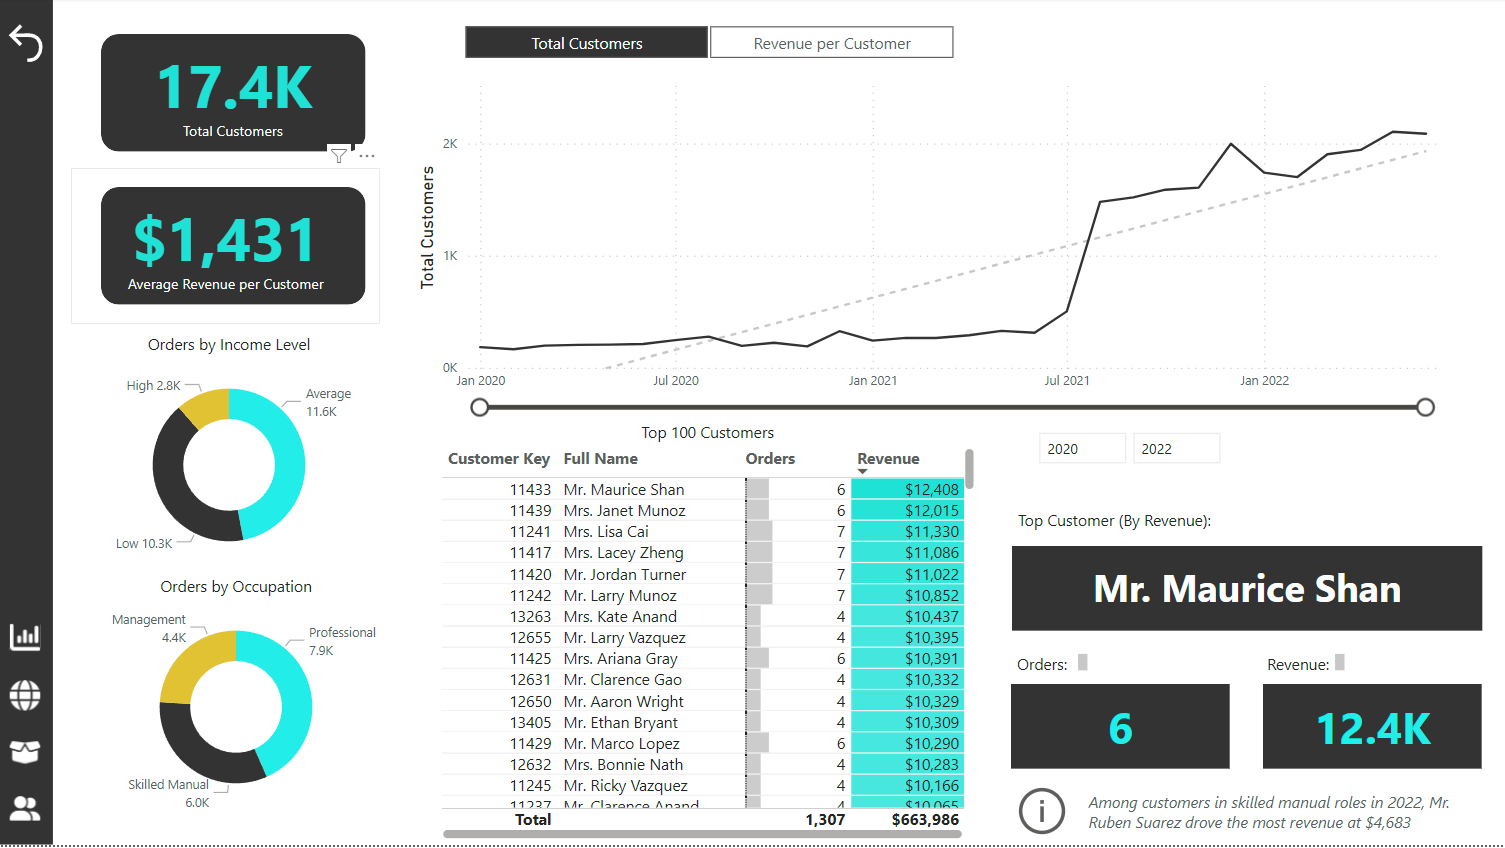

The page's visual inventory and layout, read from the dashboard file:
{"tool":"powerbi","page":{"name":"Customer Detail","canvas":[1280,720],"ordinal":3},"visuals":[{"type":"shape","box":[0,0,45,720],"z":0},{"type":"actionButton","box":[4.6,524.8,34,37.7],"z":1000,"group":"g1"},{"type":"shape","box":[86,31,225,100],"z":1000},{"type":"actionButton","box":[4.6,574.4,34,37.7],"z":2000,"group":"g1"},{"type":"shape","box":[86,161,225,100],"z":2000},{"type":"card","fields":{"Values":["Measure Table.Total Customers"]},"box":[66.1,14.6,263.4,131.2],"z":3000},{"type":"actionButton","box":[4.6,622.2,34,37.7],"z":3000,"group":"g1"},{"type":"card","fields":{"Values":["Measure Table.Average Revenue per Customer"]},"box":[60,145,263,132],"z":4000},{"type":"actionButton","box":[4.6,670,34,37.7],"z":4000,"group":"g1"},{"type":"lineChart","title":"Monthly Customers","fields":{"Y":["Measure Table.Total Customers"],"Category":["Calendar Lookup.Date Hierarchy.Start of Year","Calendar Lookup.Date Hierarchy.Start of Month","Calendar Lookup.Date Hierarchy.Start of Week","Calendar Lookup.Date Hierarchy.Date"]},"box":[350.1,62.1,888.5,297.4],"z":5000},{"type":"donutChart","title":"Orders by Income Level","fields":{"Category":["Customer Lookup.Income Level"],"Y":["Measure Table.Total Orders"]},"box":[66.5,285.6,256.9,205.7],"z":6000},{"type":"donutChart","title":"Orders by Occupation","fields":{"Y":["Measure Table.Total Orders"],"Category":["Customer Lookup.Occupation"]},"box":[72.7,491.3,256.9,205.7],"z":7000},{"type":"tableEx","title":"Top 100 Customers","fields":{"Values":["Customer Lookup.CustomerKey","Customer Lookup.Full Name","Measure Table.Total Orders","Measure Table.Total Revenue"]},"box":[370.4,360.6,463.7,359.7],"z":8000},{"type":"card","fields":{"Values":["Measure Table.Full Name (Customer Detail)"]},"box":[860.8,466.1,400,72],"z":9000},{"type":"card","fields":{"Values":["Measure Table.Total Orders (Customer Detail)"]},"box":[859.8,583.5,186,72],"z":10000},{"type":"card","fields":{"Values":["Measure Table.Total Revenue (Customer Detail)"]},"box":[1073.8,583.5,186,72],"z":11000},{"type":"textbox","box":[860.6,430.3,193.8,35.7],"z":12000},{"type":"textbox","box":[859.4,552.8,70.1,23.8],"z":13000},{"type":"textbox","box":[1072.2,552.8,76.1,23.8],"z":14000},{"type":"slicer","fields":{"Values":["Calendar Lookup.Year"]},"box":[870.6,359.5,368,70.6],"z":15000},{"type":"actionButton","box":[860.6,665.7,398.2,51.1],"z":16000},{"type":"actionButton","box":[1.2,17,45,42.5],"z":17000},{"type":"group","id":"g1","title":"Navigation Buttons","box":[4.6,524.8,34,182.9],"z":18000},{"type":"slicer","fields":{"Values":["Customer Metric Selection.Customer Metric Selection"]},"box":[369.9,16.9,464.9,36.7],"z":19000}]}

Visuals, with their boxes on the page's 1280x720 design canvas (x1, y1, x2, y2). These are canvas units, not pixel positions in the 1505x848 screenshot, which may show the page scaled, cropped or inside an application window:
shape: x1=0 y1=0 x2=45 y2=720
actionButton: x1=5 y1=525 x2=39 y2=562
shape: x1=86 y1=31 x2=311 y2=131
actionButton: x1=5 y1=574 x2=39 y2=612
shape: x1=86 y1=161 x2=311 y2=261
card - Measure Table.Total Customers: x1=66 y1=15 x2=330 y2=146
actionButton: x1=5 y1=622 x2=39 y2=660
card - Measure Table.Average Revenue per Customer: x1=60 y1=145 x2=323 y2=277
actionButton: x1=5 y1=670 x2=39 y2=708
"Monthly Customers" lineChart: x1=350 y1=62 x2=1239 y2=360
"Orders by Income Level" donutChart: x1=66 y1=286 x2=323 y2=491
"Orders by Occupation" donutChart: x1=73 y1=491 x2=330 y2=697
"Top 100 Customers" tableEx: x1=370 y1=361 x2=834 y2=720
card - Measure Table.Full Name (Customer Detail): x1=861 y1=466 x2=1261 y2=538
card - Measure Table.Total Orders (Customer Detail): x1=860 y1=584 x2=1046 y2=656
card - Measure Table.Total Revenue (Customer Detail): x1=1074 y1=584 x2=1260 y2=656
textbox: x1=861 y1=430 x2=1054 y2=466
textbox: x1=859 y1=553 x2=930 y2=577
textbox: x1=1072 y1=553 x2=1148 y2=577
slicer - Calendar Lookup.Year: x1=871 y1=360 x2=1239 y2=430
actionButton: x1=861 y1=666 x2=1259 y2=717
actionButton: x1=1 y1=17 x2=46 y2=60
"Navigation Buttons" group: x1=5 y1=525 x2=39 y2=708
slicer - Customer Metric Selection.Customer Metric Selection: x1=370 y1=17 x2=835 y2=54
